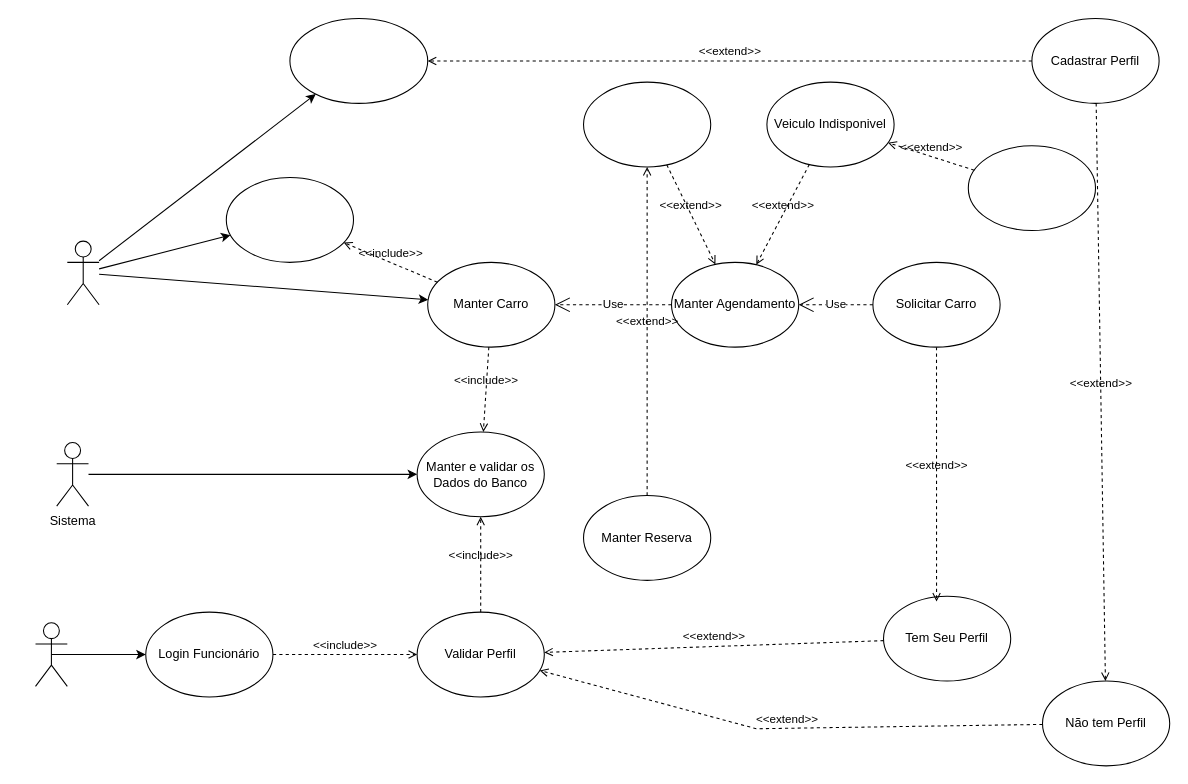
The diagram is 1188 pixels wide and 784 high, and some of its shapes have lost their labels. Here are the shapes that lost their labels. From the top down, the centre of each, then its label:
pixel 358 60: Manter Funcionário
pixel 646 124: Veiculo Disponivel
pixel 1031 188: Sugirir outro Carro
pixel 289 219: Login Admin
pixel 82 272: Administrador
pixel 50 654: Funcionário
